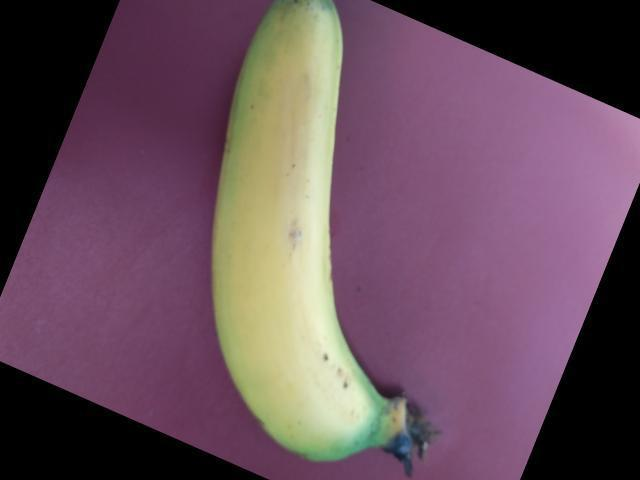freshripe: (195, 18, 414, 479)
